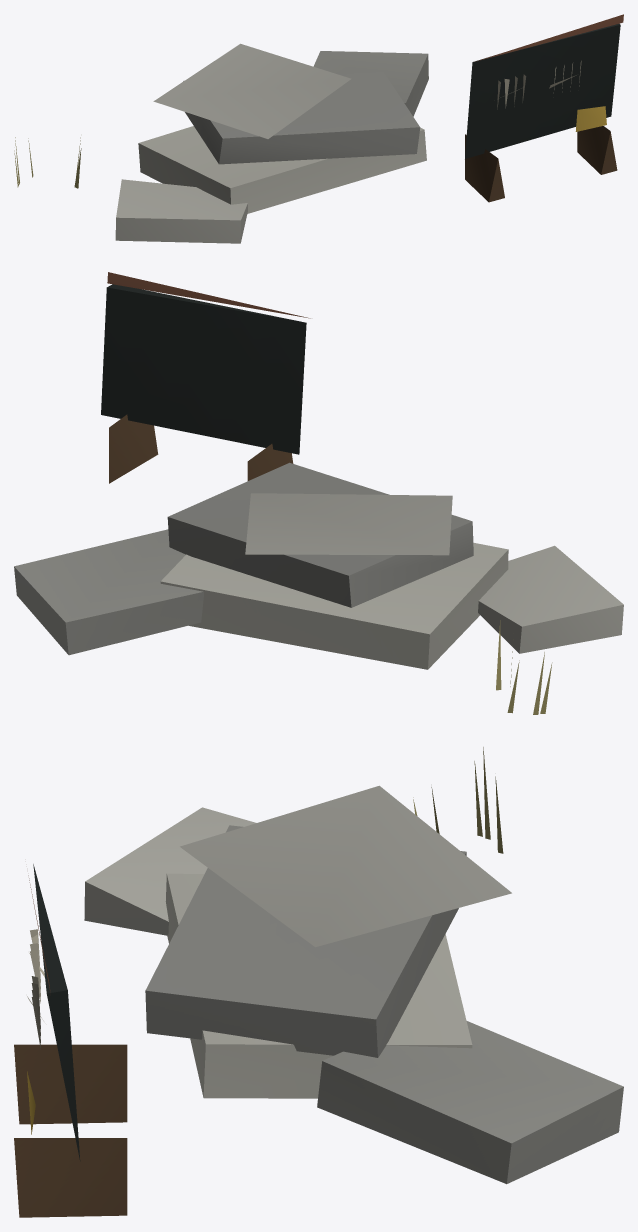
File: stencil_post_c_lod2.glb
3 views of the same model, one above another, from view 1: azimuth 30°, elevation 25°; view 2: azimuth 150°, elevation 25°; view 3: azimuth 270°, elevation 25° (orthographic). The views are drawn at different scales.
Visible parts, largest first — view 1: Surface.001; view 2: Surface.001; view 3: Surface.001.
Part boxes in pixels (<box>): Surface.001: <box>14,14,623,243</box>; Surface.001: <box>14,272,623,714</box>; Surface.001: <box>14,747,623,1217</box>.
Size of the model in its own units: 5.18 by 1.58 by 3.32.
